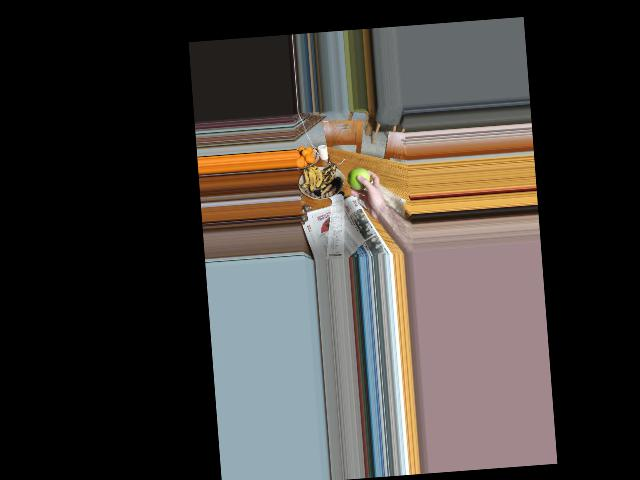apple: (346, 164, 371, 193)
